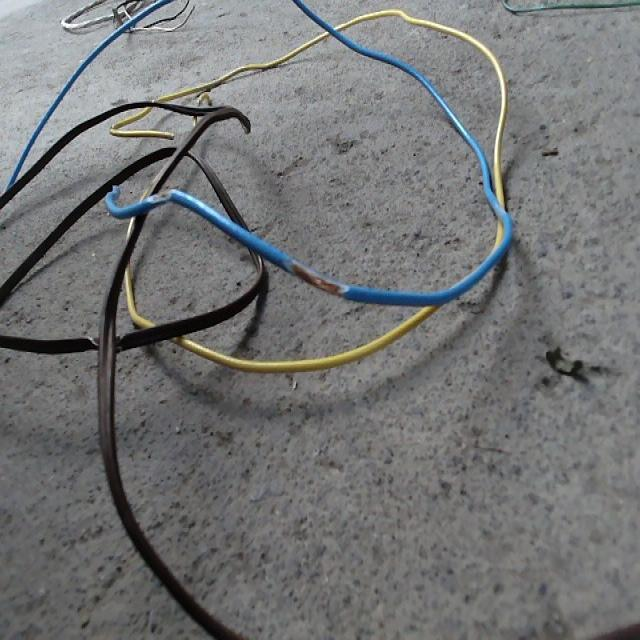-: (287, 259, 349, 296), (149, 186, 173, 202)
